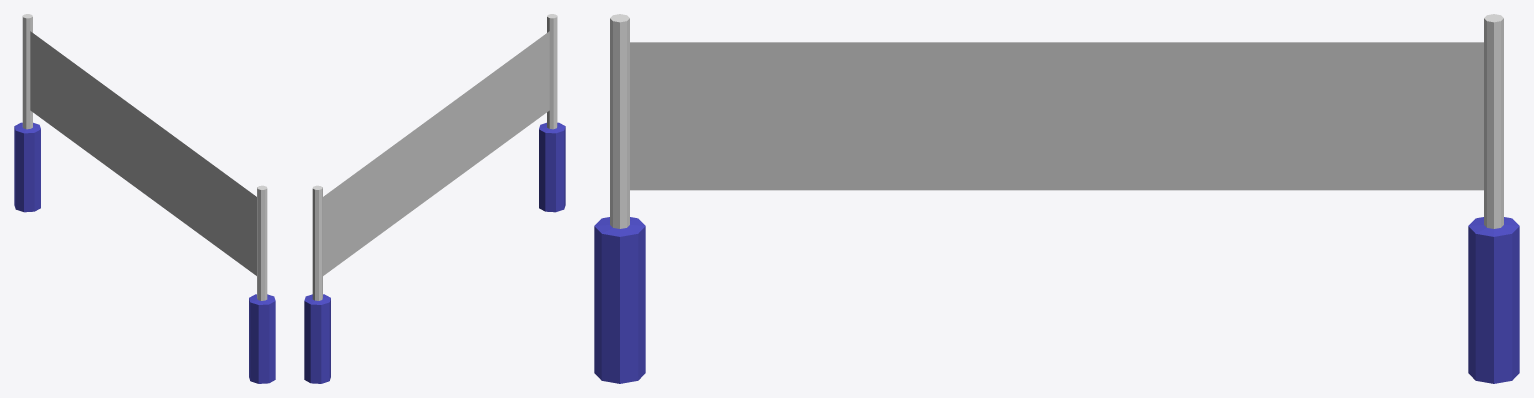
File: BeachVolleyballNet_3.fbx
The picture shows the model from 3 angles, left to right: view 1: azimuth 30°, elevation 25°; view 2: azimuth 150°, elevation 25°; view 3: azimuth 270°, elevation 25°; orthographic projection. The views are drawn at different scales.
Parts seen in each view (by area): view 1: Net, Pole, Pole.001; view 2: Net, Pole.001, Pole; view 3: Net, Pole.001, Pole.
Part boxes in pixels (x1,y1,x2,y2): Net: [30, 31, 256, 275]; Pole: [249, 185, 275, 383]; Pole.001: [14, 14, 40, 212]; Net: [323, 31, 549, 275]; Pole.001: [304, 185, 330, 383]; Pole: [539, 14, 565, 212]; Net: [630, 42, 1483, 190]; Pole.001: [1468, 14, 1519, 383]; Pole: [594, 14, 645, 383].
Size of the model in its own units: 39.57 by 300 by 710.
